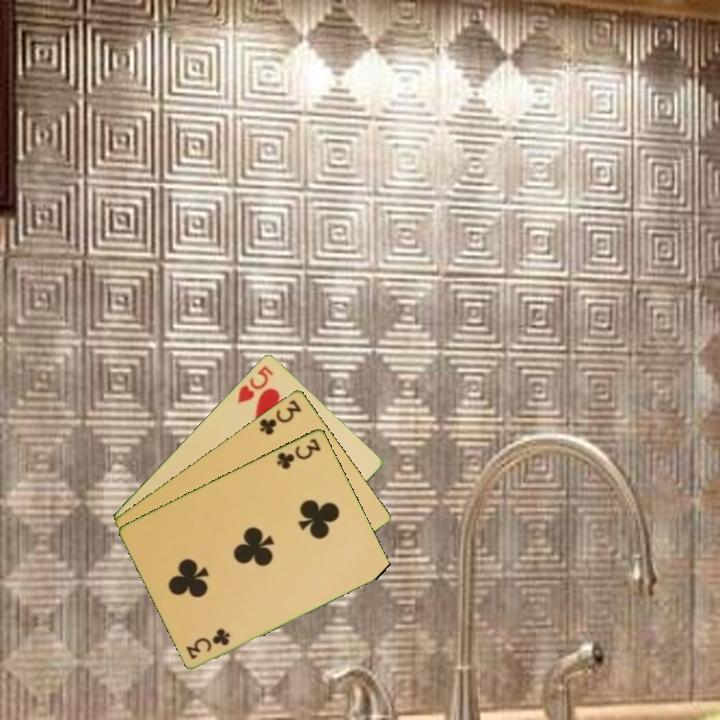3c: (256, 396, 305, 438), (273, 434, 324, 472), (183, 626, 233, 662)
5h: (234, 361, 276, 406)
